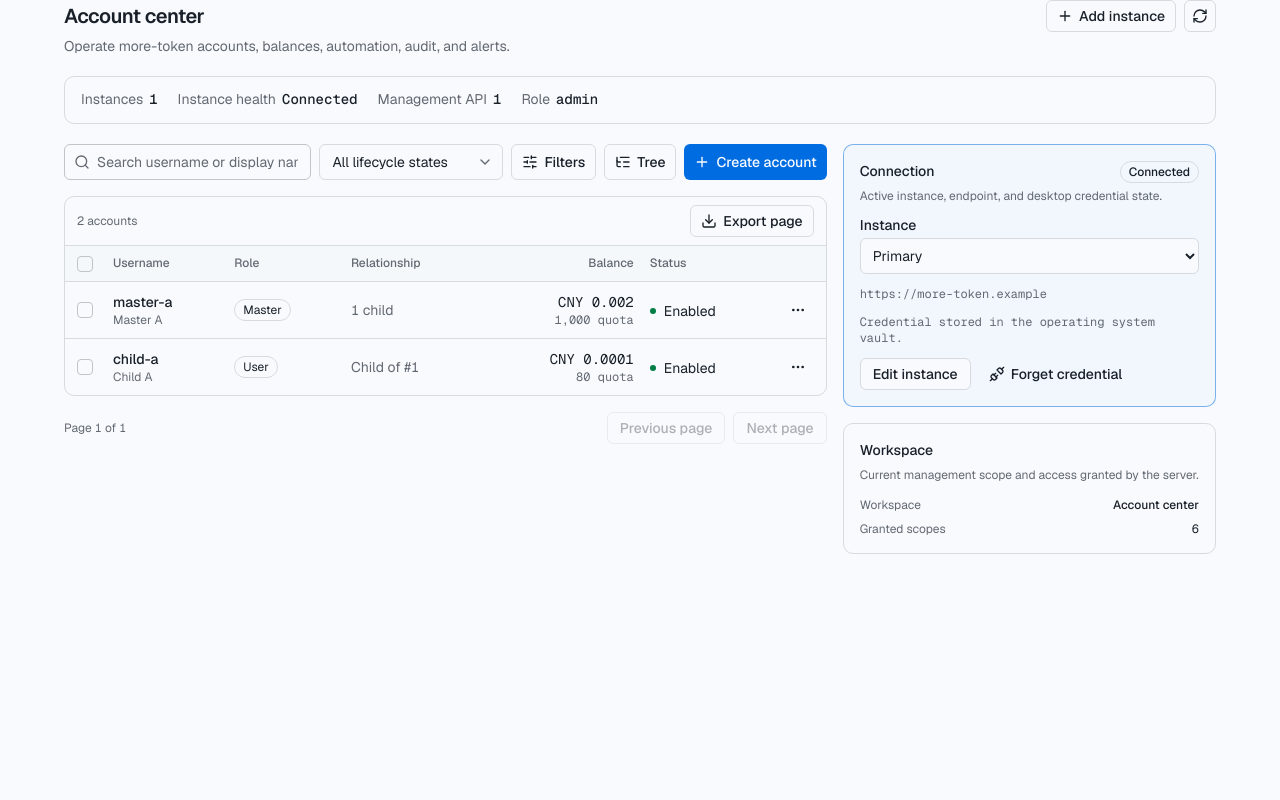
Scenario: account lifecycle dialog › previews an action against the server and commits the previewed payload
Step 1. Click the button named "Actions: child-a" → (798, 367), box [782,351,814,383]
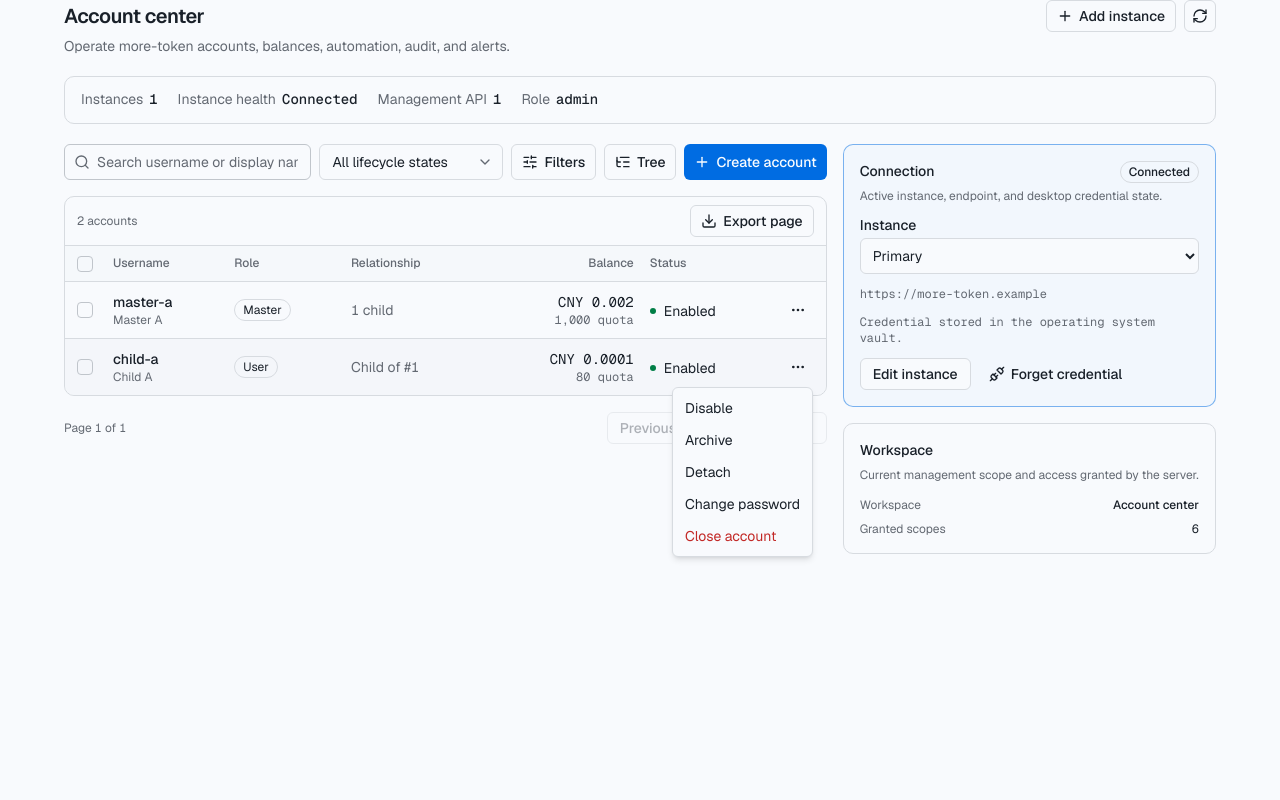
Step 2. Click the menu item "Disable" → (709, 408), box [685,399,733,417]
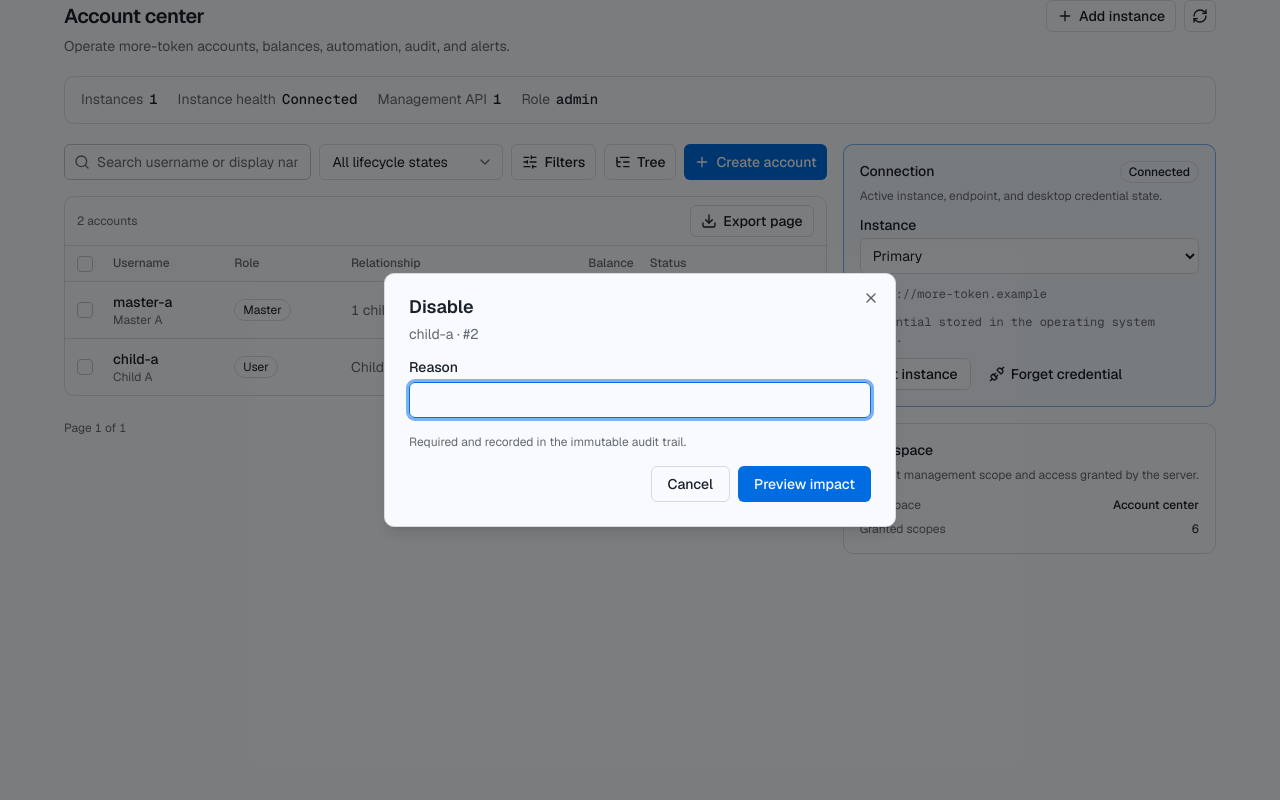
Expected: the heading "Disable" is shown, [409,295,474,318]
Expected: the dialog shows "child-a · #2", [384,273,896,527]
Step 3. Type "offboarding" into the field labelled "Reason" → (640, 400), box [409,382,871,418]
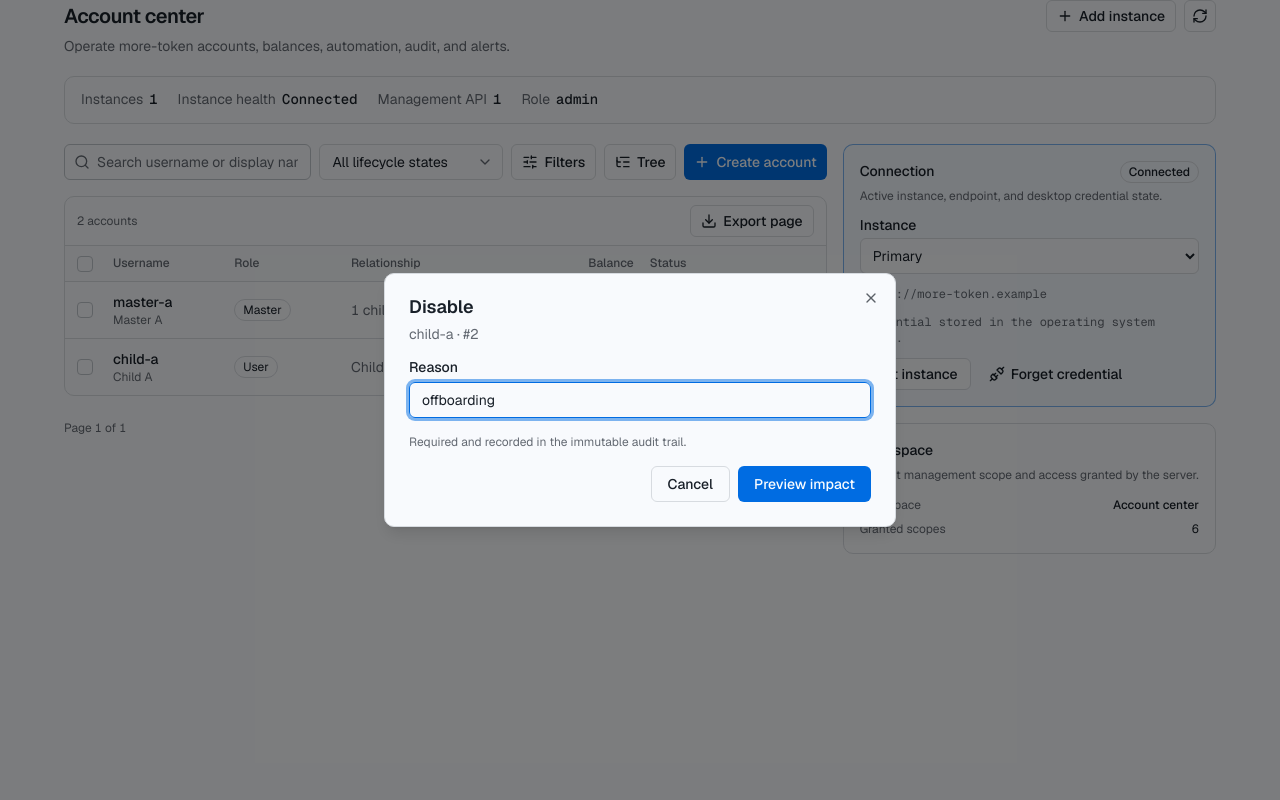
Step 4. Click the button "Preview impact" → (805, 484), box [738,466,871,502]
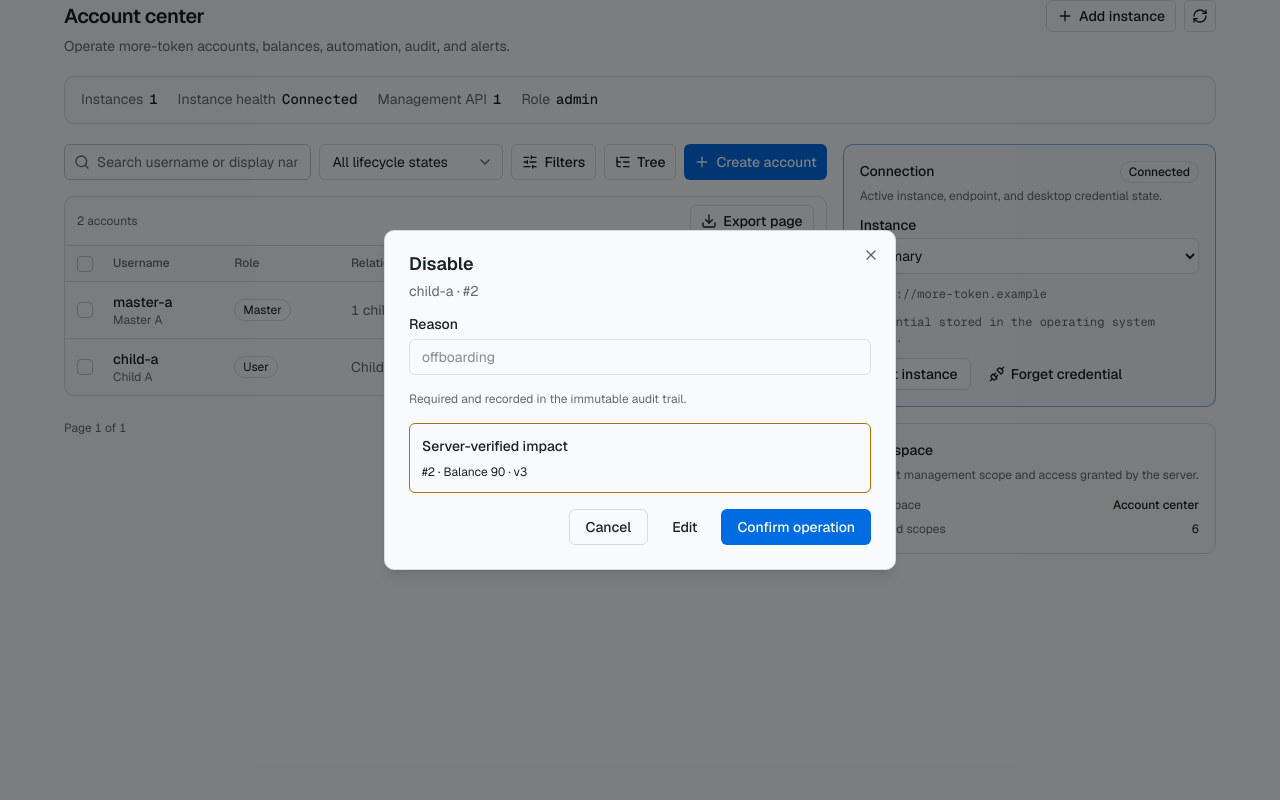
Expected: the field labelled "Reason" is disabled, [409,339,871,375]
Expected: the text "Server-verified impact" is shown, [422,437,568,455]
Step 5. Click the button "Confirm operation" → (796, 527), box [722,509,871,545]
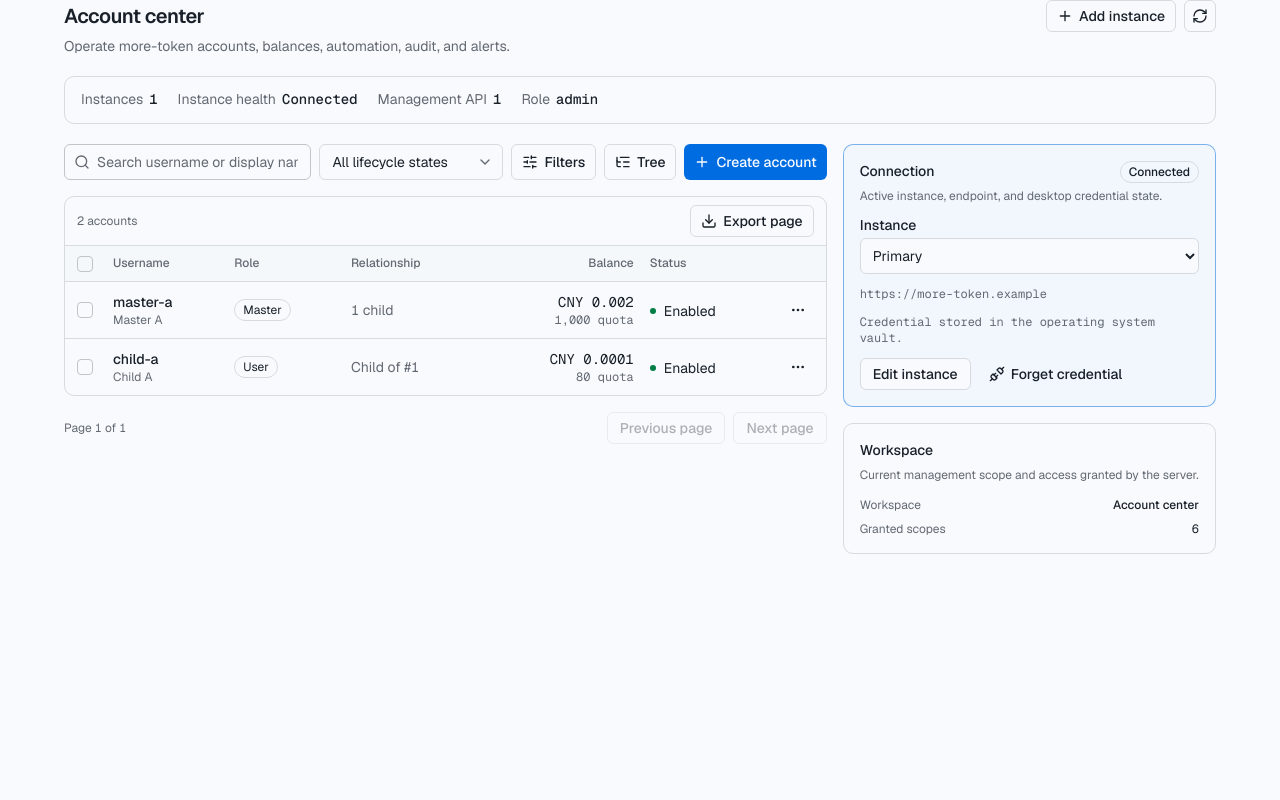
Expected: the dialog is gone
